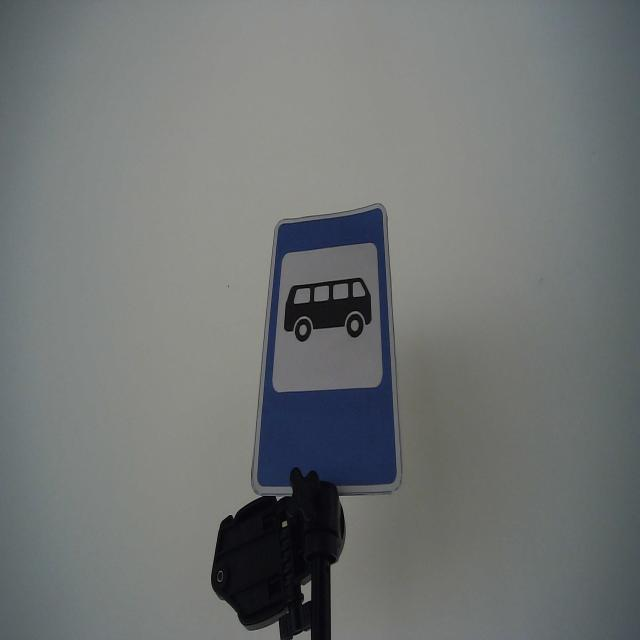bus_stop: (248, 198, 406, 496)
